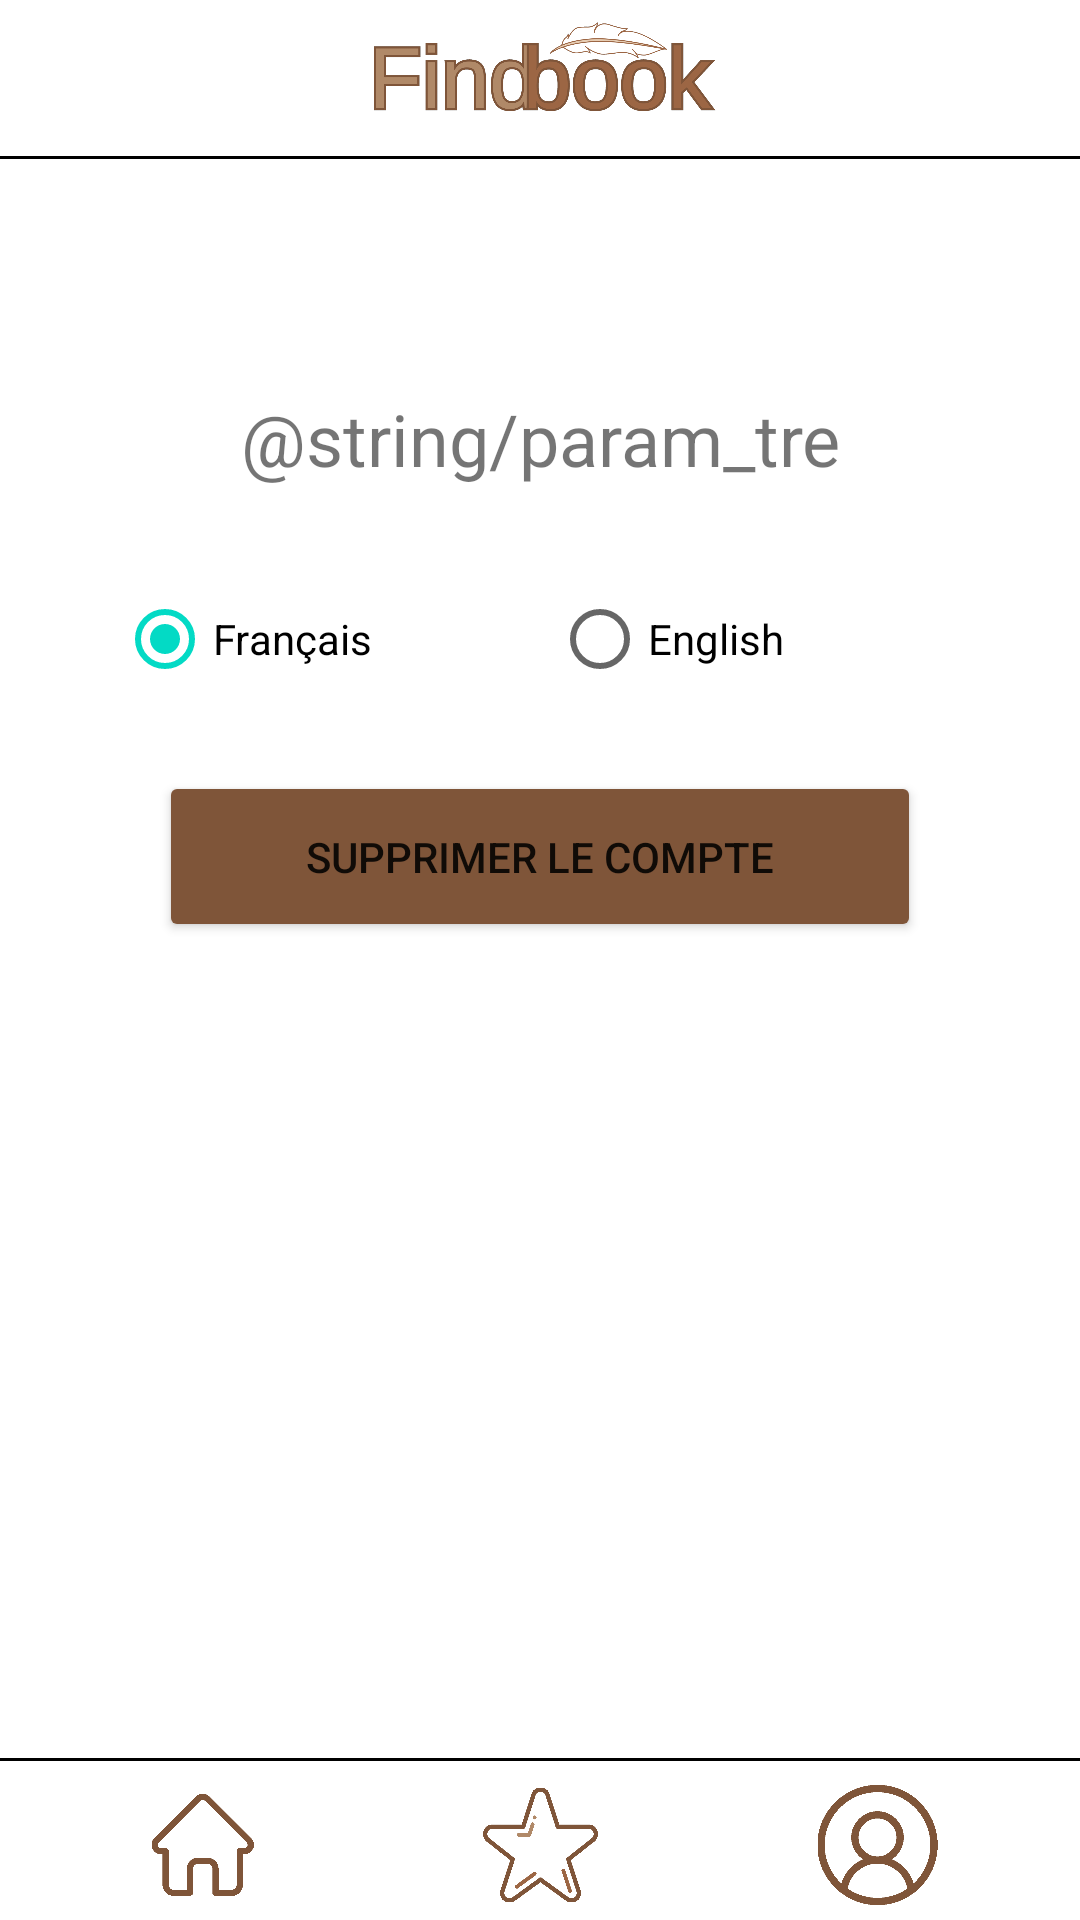

Screen size 1080 × 1920. Icon name, then its center in pixels as (x=x, y=y):
favoris: (x=540, y=1845)
home: (x=203, y=1845)
moncompte: (x=878, y=1845)
